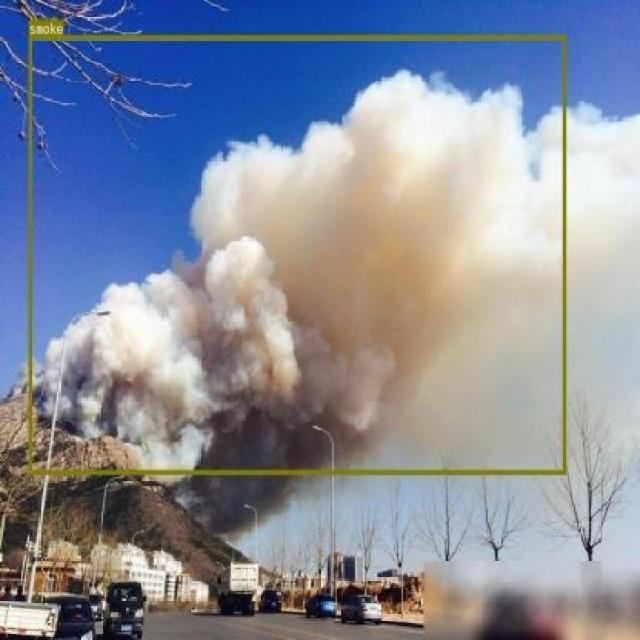Smoke: (28, 34, 566, 473)
